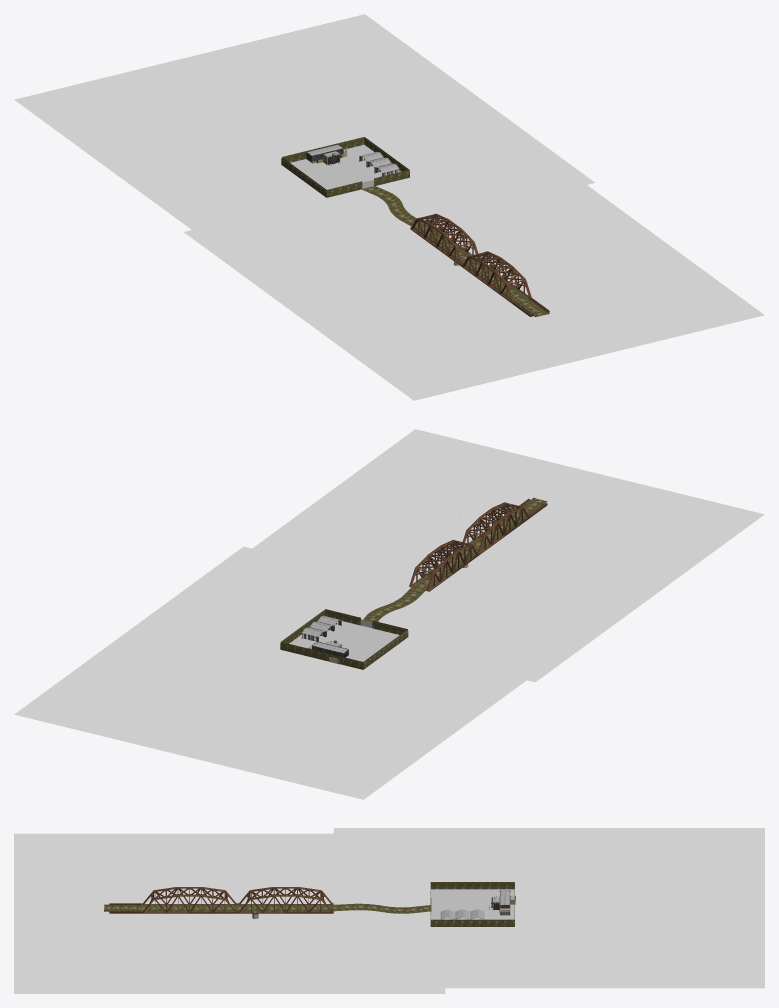
Rendered from Main Station.fbx.
3 views of the same model, one above another, from view 1: azimuth 30°, elevation 25°; view 2: azimuth 150°, elevation 25°; view 3: azimuth 270°, elevation 25° (orthographic). The views are drawn at different scales.
Visible parts, largest first — view 1: ground, water, bridge_001, bridge_001_Piece_Piece.001, bridge_001_Piece_Piece.002, bridge_001_Piece_Piece.004, bridge_001_Piece; view 2: ground, water, bridge_001, bridge_001_Piece_Piece.001, bridge_001_Piece_Piece.002, bridge_001_Piece_Piece.004, bridge_001_Piece; view 3: ground, water, bridge_001, bridge_001_Piece_Piece.001, bridge_001_Piece_Piece.002, bridge_001_Piece_Piece.004, bridge_001_Piece, bus_terminal_002, Default_Road_001.001, _2_727, bridge_001_Piece_Piece.003.
Boxes of the visible parts, x1,y1,x2,y2 form: ground: (14, 14, 594, 268); water: (184, 185, 764, 400); bridge_001: (410, 213, 531, 304); bridge_001_Piece_Piece.001: (281, 138, 409, 197); bridge_001_Piece_Piece.002: (307, 156, 380, 187); bridge_001_Piece_Piece.004: (290, 144, 400, 189); bridge_001_Piece: (361, 186, 425, 226); ground: (14, 546, 592, 799); water: (252, 429, 764, 682); bridge_001: (409, 502, 530, 591); bridge_001_Piece_Piece.001: (280, 610, 408, 669); bridge_001_Piece_Piece.002: (319, 622, 391, 659); bridge_001_Piece_Piece.004: (289, 621, 399, 661); bridge_001_Piece: (363, 587, 424, 621); ground: (333, 828, 764, 988); water: (14, 833, 445, 993); bridge_001: (141, 887, 333, 913); bridge_001_Piece_Piece.001: (430, 883, 514, 926); bridge_001_Piece_Piece.002: (431, 896, 498, 917); bridge_001_Piece_Piece.004: (431, 889, 514, 919); bridge_001_Piece: (333, 903, 430, 913); bus_terminal_002: (489, 890, 515, 915); Default_Road_001.001: (104, 903, 141, 913); _2_727: (440, 909, 484, 919); bridge_001_Piece_Piece.003: (430, 882, 514, 920).
Size of the model in its own units: 41467 by 5053 by 81819.
